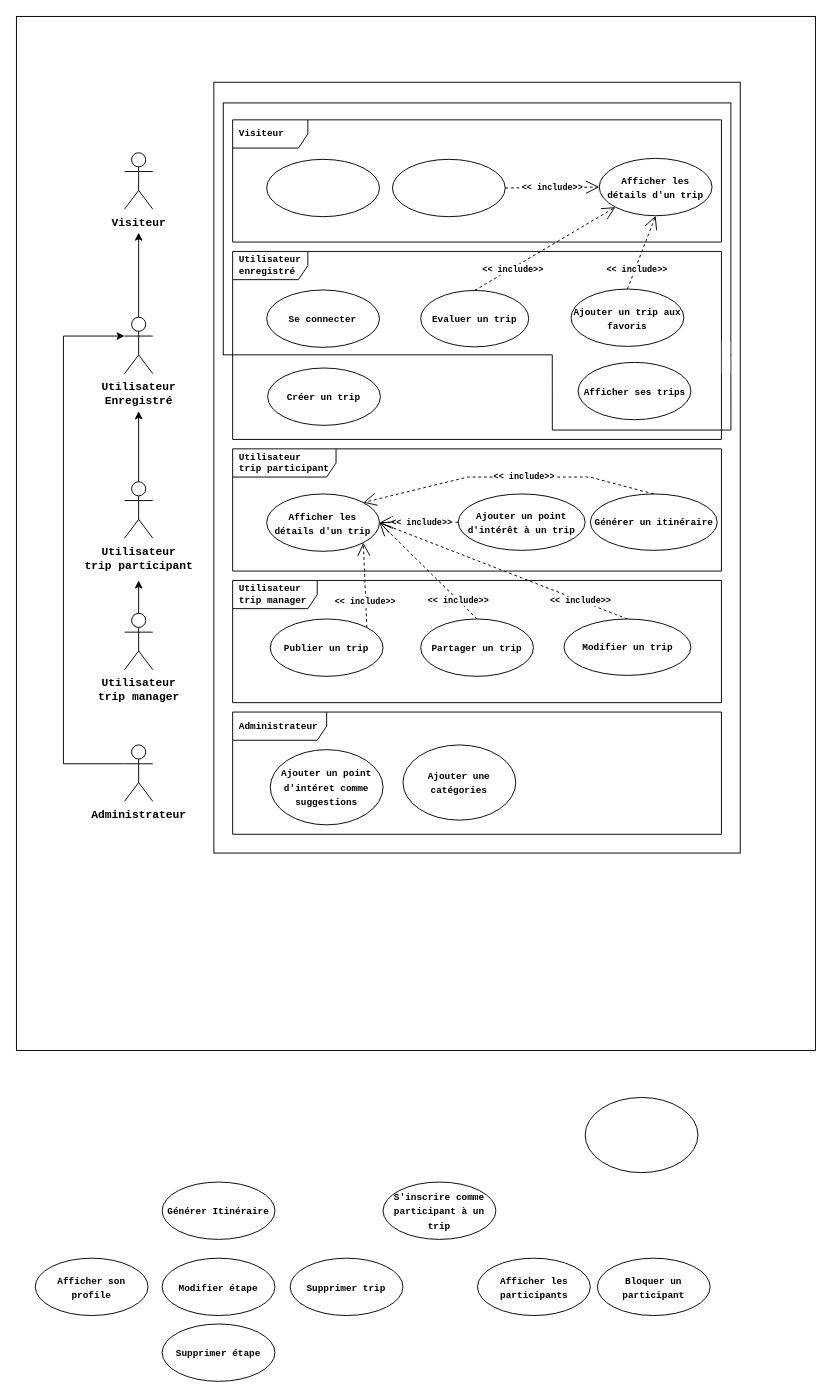
This 832x1398 diagram has some shape labels left out. The shapes that lost their labels are listed below. From the top down, each one's box as (x1, y1, x2, y2) in pixels, then its label:
(266, 158, 379, 217): Créer un compte
(392, 158, 505, 217): Effectuer une recherche
(222, 102, 731, 355): Application Mobile
(213, 81, 740, 853): Application Web
(584, 1097, 698, 1173): Afficher les trips
